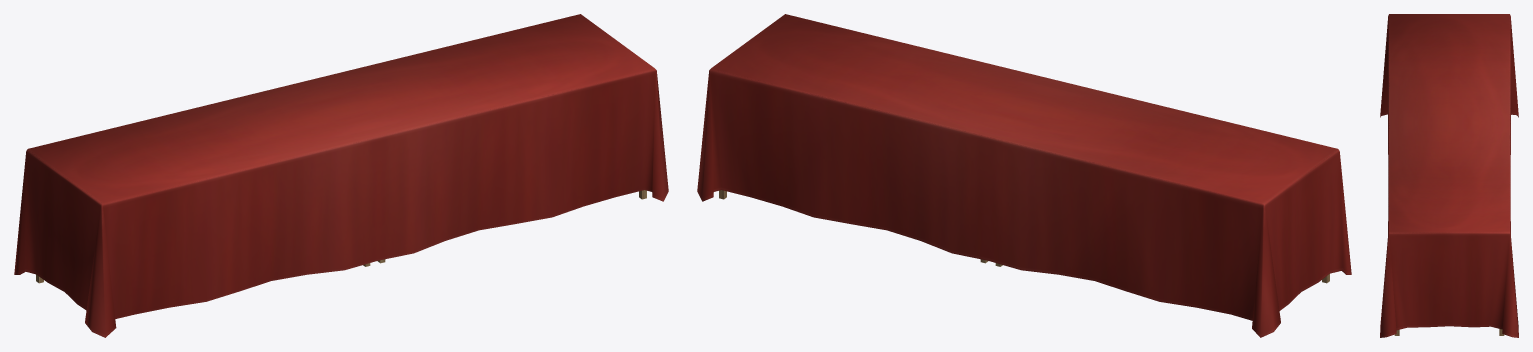
File: jsf_Table_04.fbx
3 views of the same model, side by side, from view 1: azimuth 30°, elevation 25°; view 2: azimuth 150°, elevation 25°; view 3: azimuth 270°, elevation 25° (orthographic). The views are drawn at different scales.
Parts seen in each view (by area): view 1: jsf_Table_04; view 2: jsf_Table_04; view 3: jsf_Table_04.
Boxes of the visible parts, x1,y1,x2,y2 form: jsf_Table_04: (14,14,668,337); jsf_Table_04: (697,14,1351,337); jsf_Table_04: (1380,14,1518,337).
Bounding box in the file's own units: 324 × 70.03 × 83.21.
